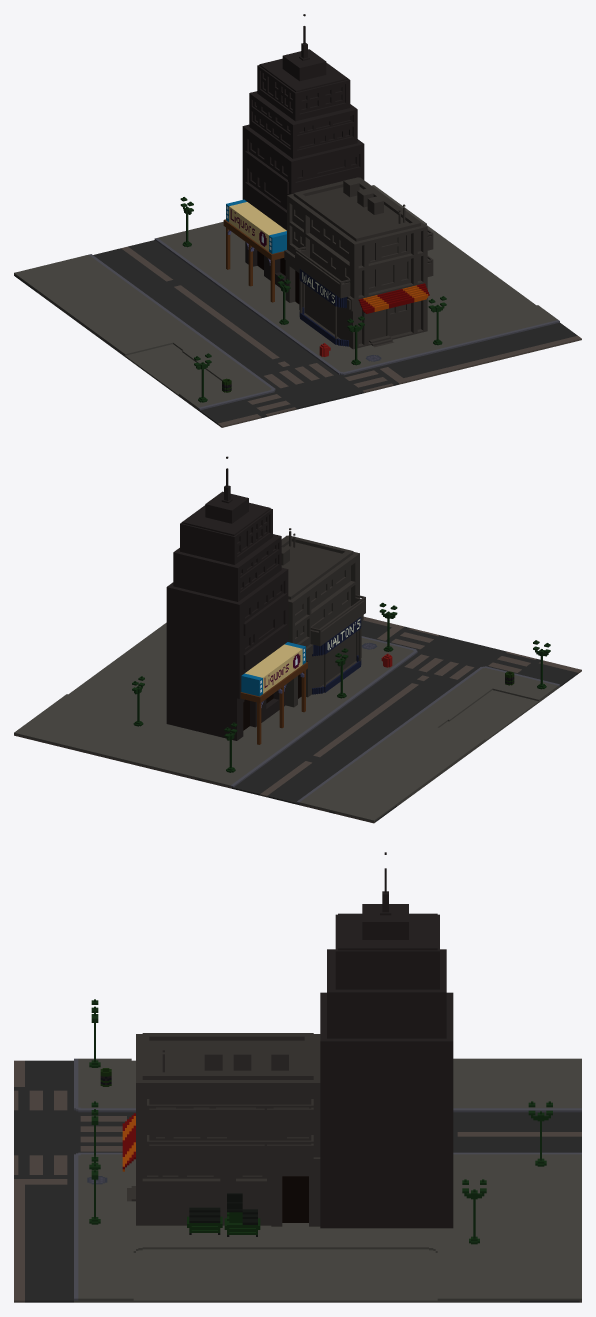
The model's file is Street1-11.obj.
The picture shows the model from 3 angles, top to bottom: view 1: azimuth 30°, elevation 25°; view 2: azimuth 150°, elevation 25°; view 3: azimuth 270°, elevation 25°; orthographic projection. The views are drawn at different scales.
Size of the model in its own units: 25.6 by 17.7 by 25.6.
1 material, 1 textured.
